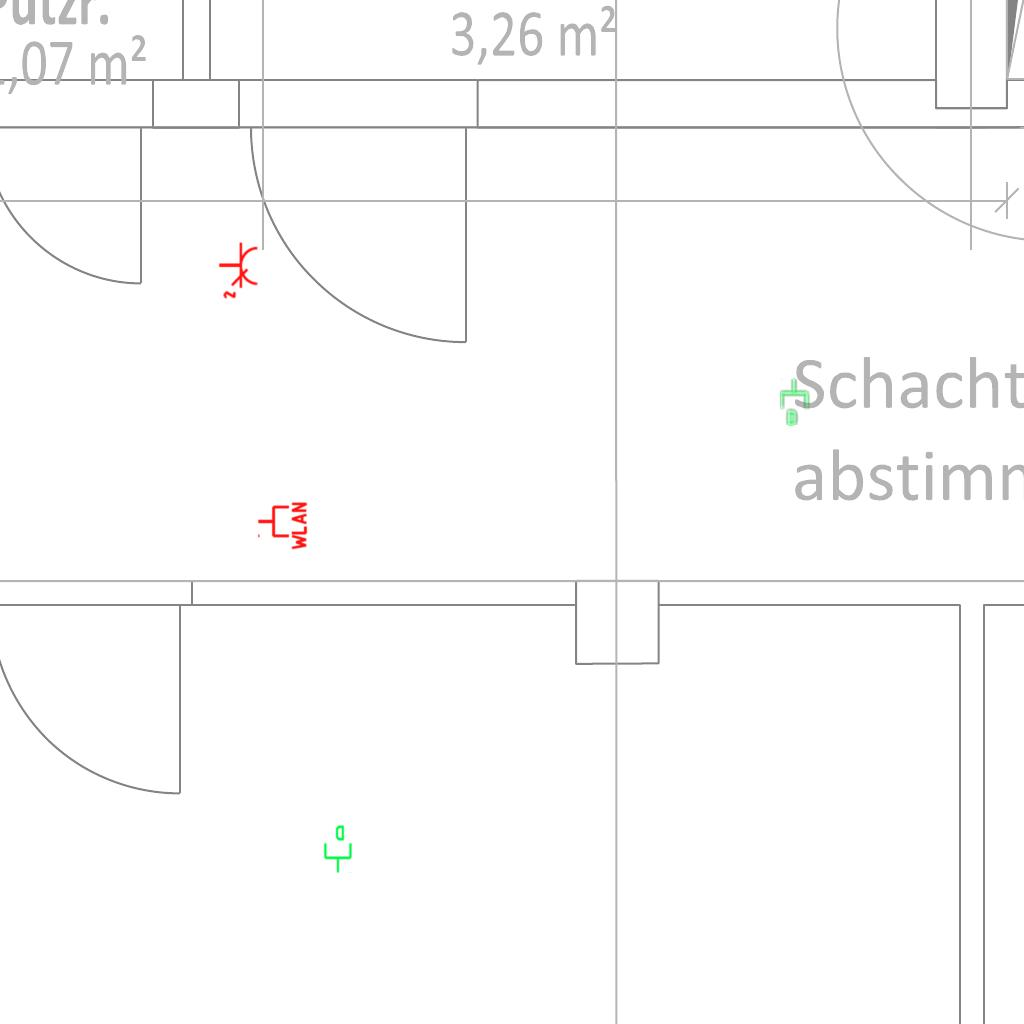Datenanschluss_einfach: (320, 824, 354, 874), (778, 377, 812, 427)
Schukosteckdose_mehrfach: (216, 240, 260, 300)
WLAN: (256, 500, 308, 552)
